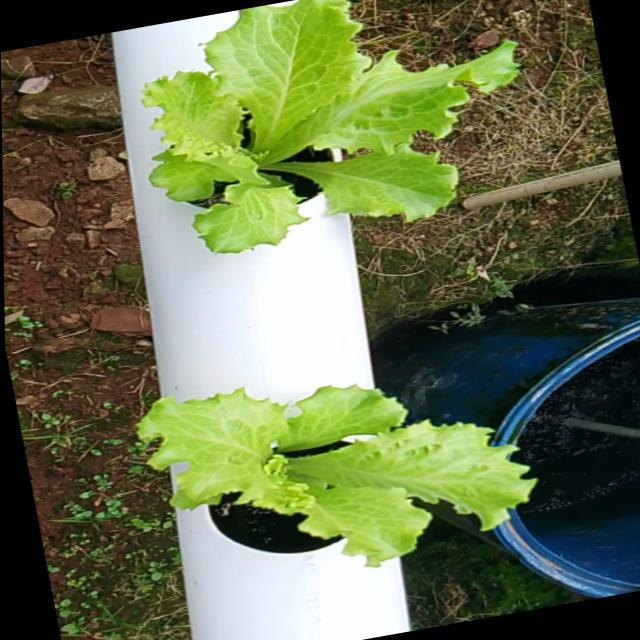Baby: (147, 11, 525, 269), (152, 402, 557, 587)
